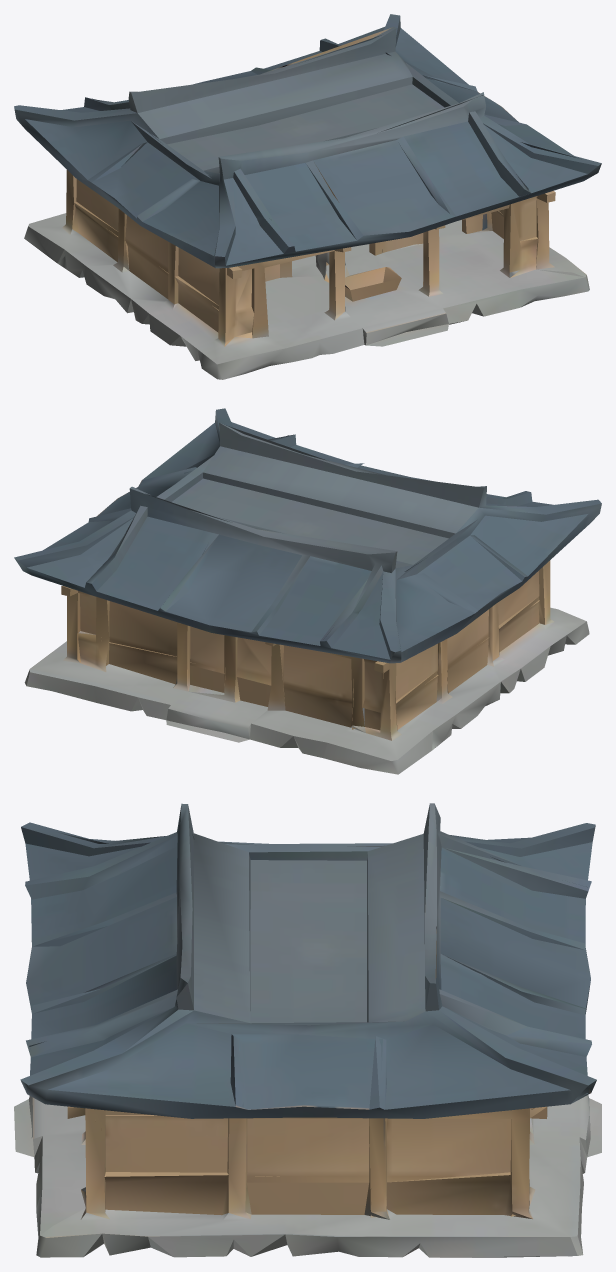
3 views of the same model, one above another, from view 1: azimuth 30°, elevation 25°; view 2: azimuth 150°, elevation 25°; view 3: azimuth 270°, elevation 25° (orthographic). The views are drawn at different scales.
Parts seen in each view (by area): view 1: geometry_0; view 2: geometry_0; view 3: geometry_0.
Boxes of the visible parts, x1,y1,x2,y2 form: geometry_0: (14,14,601,379); geometry_0: (14,408,601,774); geometry_0: (14,803,601,1257).
Size of the model in its own units: 1 by 0.425 by 0.9495.
Materials: 1 (1 with a texture image).
